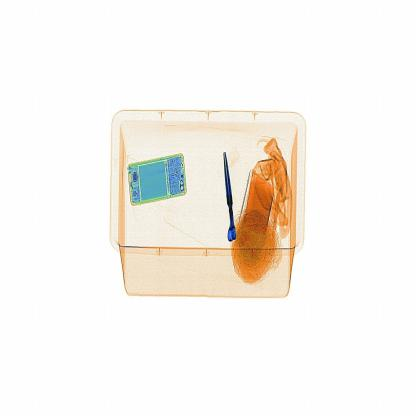gun: (216, 141, 247, 252)
